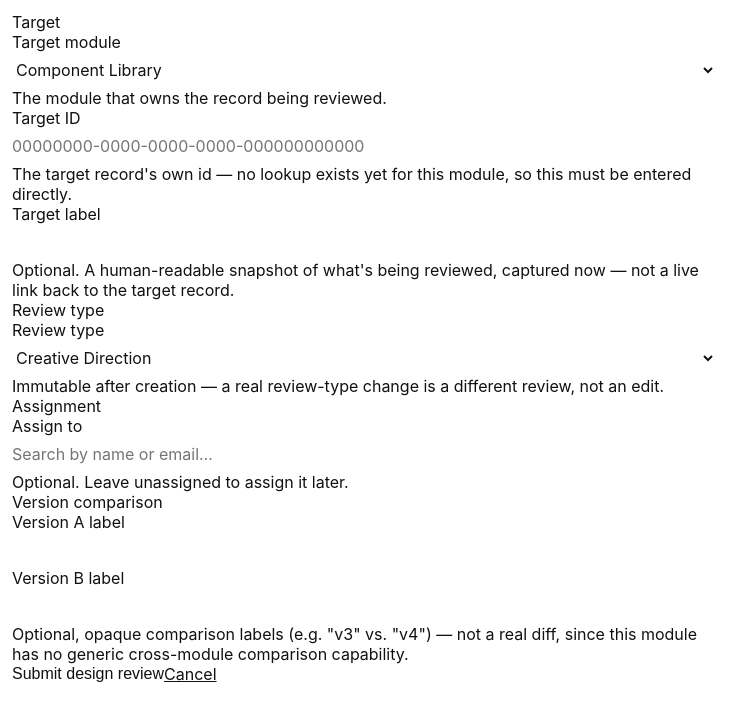
DesignReviewForm › shows a clear message and does not navigate when a successful response carries no data
The image size is (733, 719).
In the field labelled "Target ID": (364, 146) [12, 128, 716, 164], type "22222222-2222-2222-2222-222222222222"
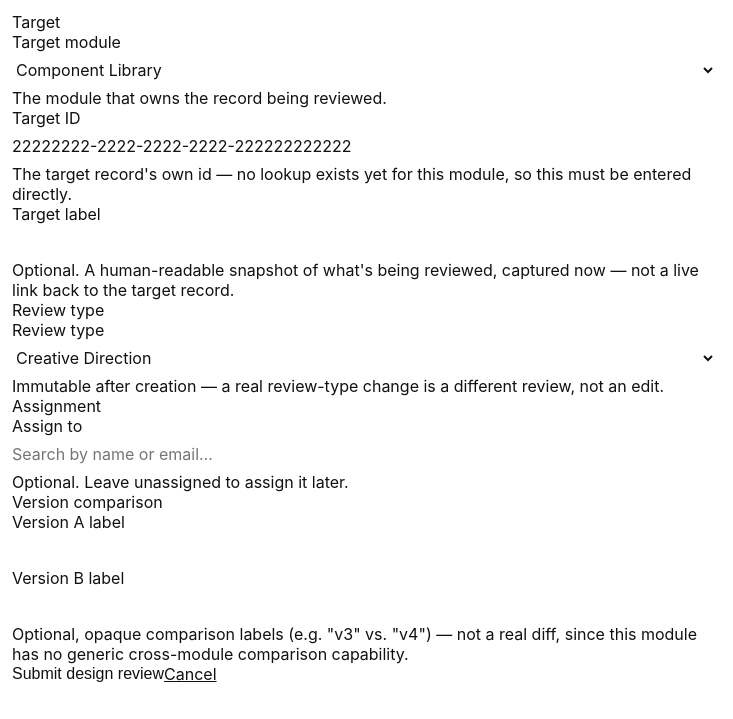
Click the button "Submit design review": (88, 674) [12, 665, 164, 683]
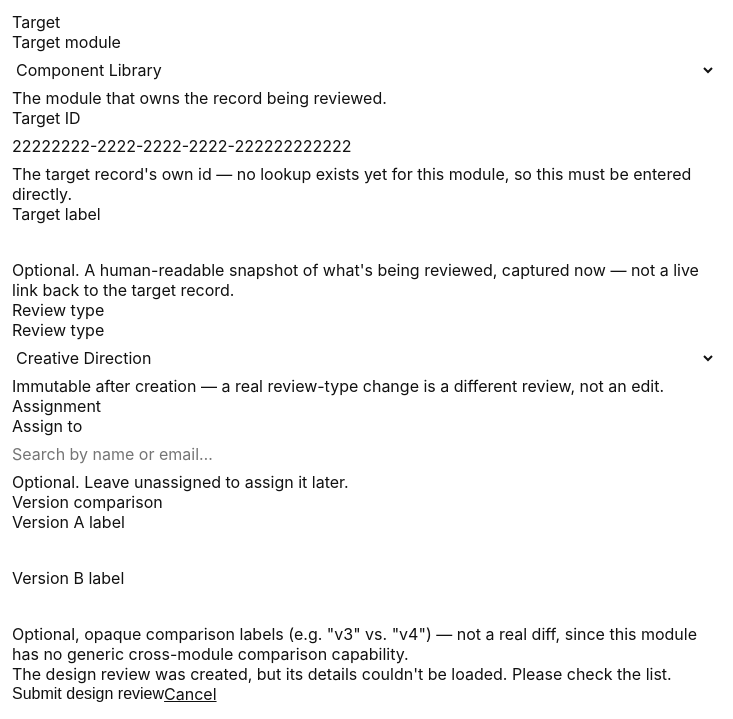
Expected: the message shows "The design review was created, but its details couldn't be loaded. Please check the list.", [12, 664, 672, 684]
